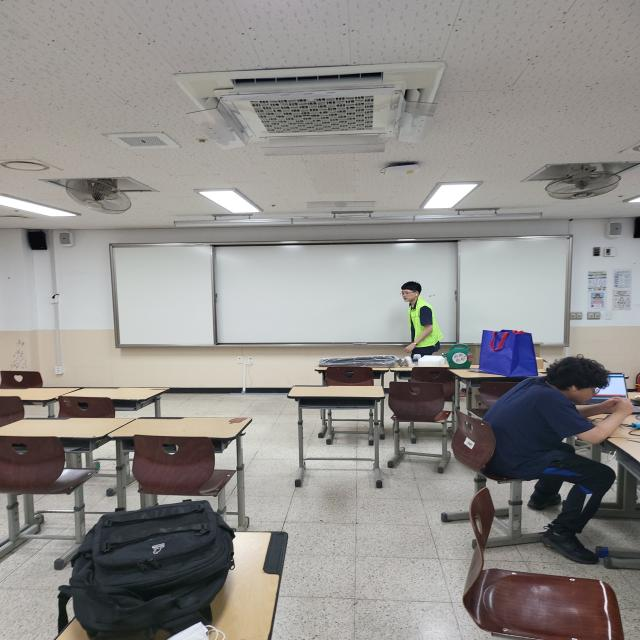weston_spy: (400, 303, 442, 356)
